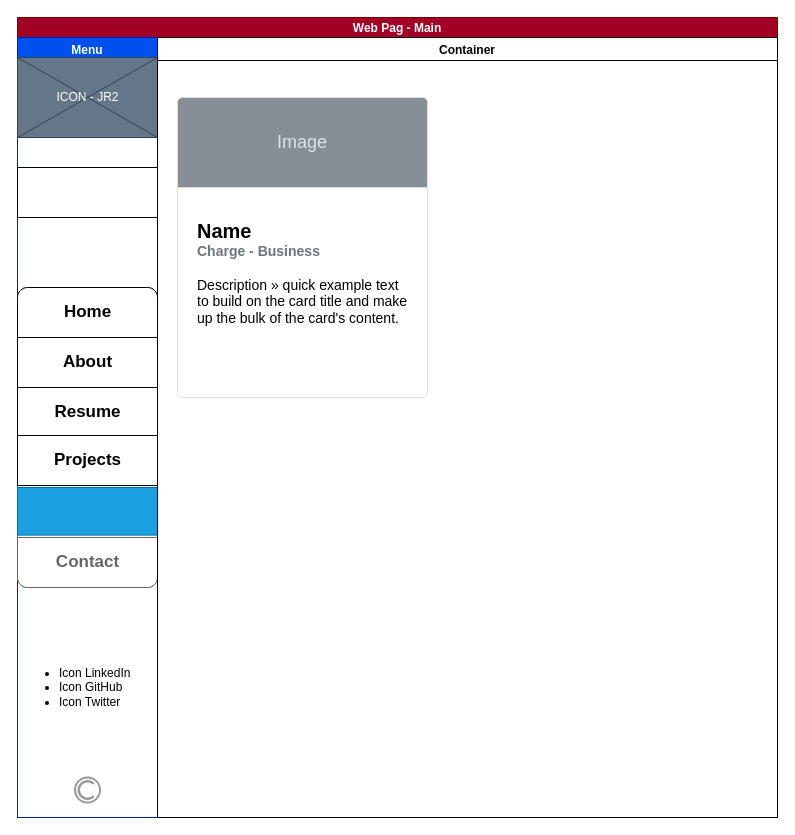
Image size: 795x835. Some labels were removed from this diagram. The centre of each missing label's shape, as x and y in pixels:
"Full Stack Web Developer" goes at [87,192].
"Recomendations" goes at [87,510].
